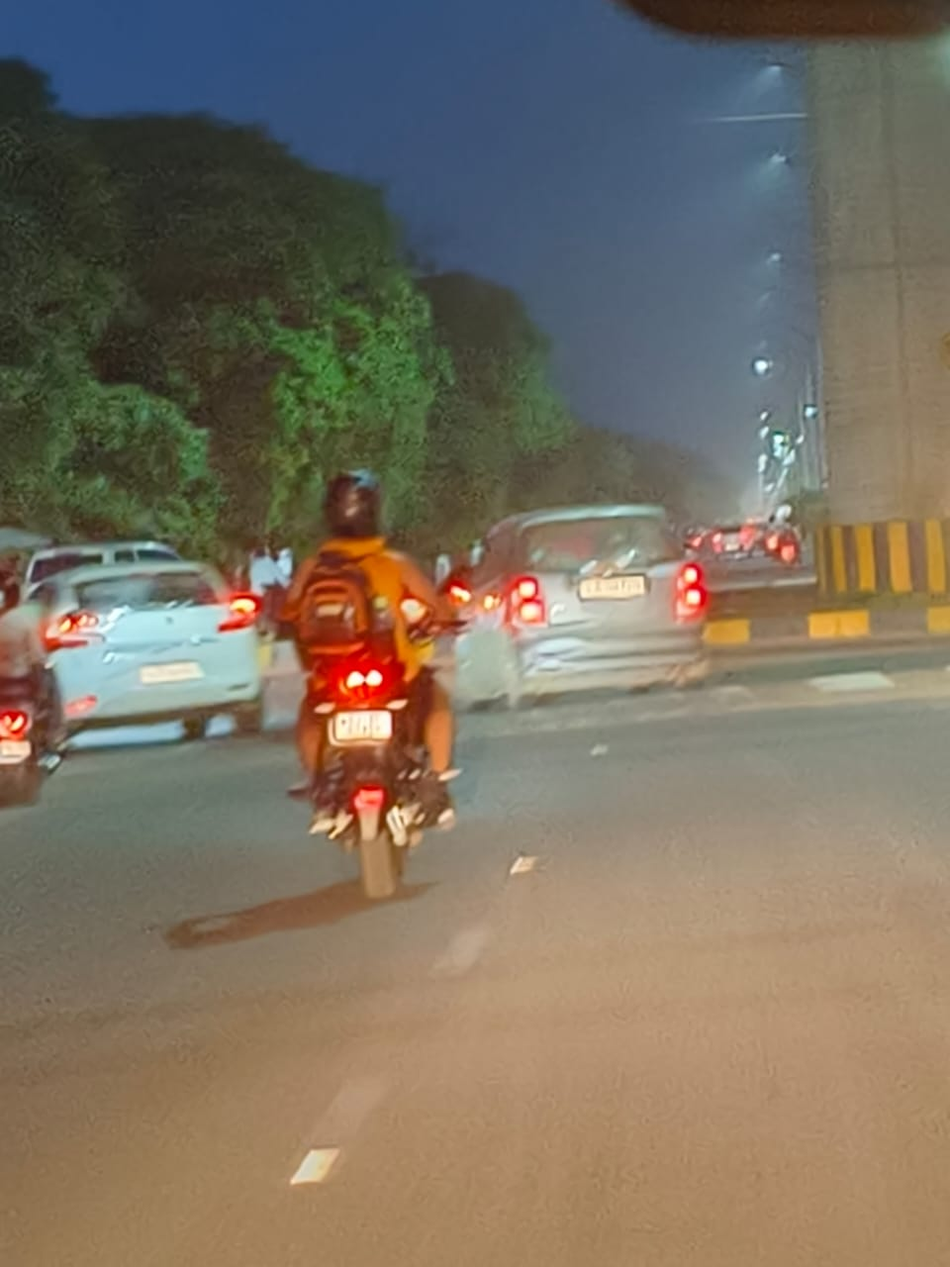BikeWithRider: (245, 455, 495, 911)
Helmet: (310, 458, 399, 550)
